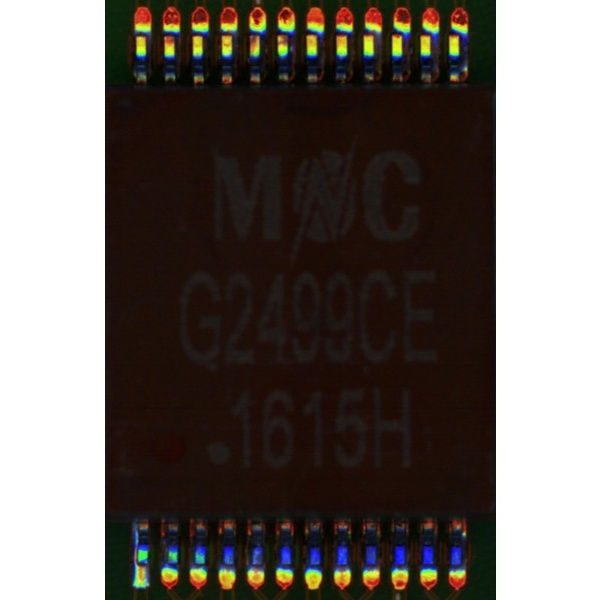Bad_podu: (133, 523, 138, 561)
Bad_qiaojiao: (136, 554, 146, 576)
